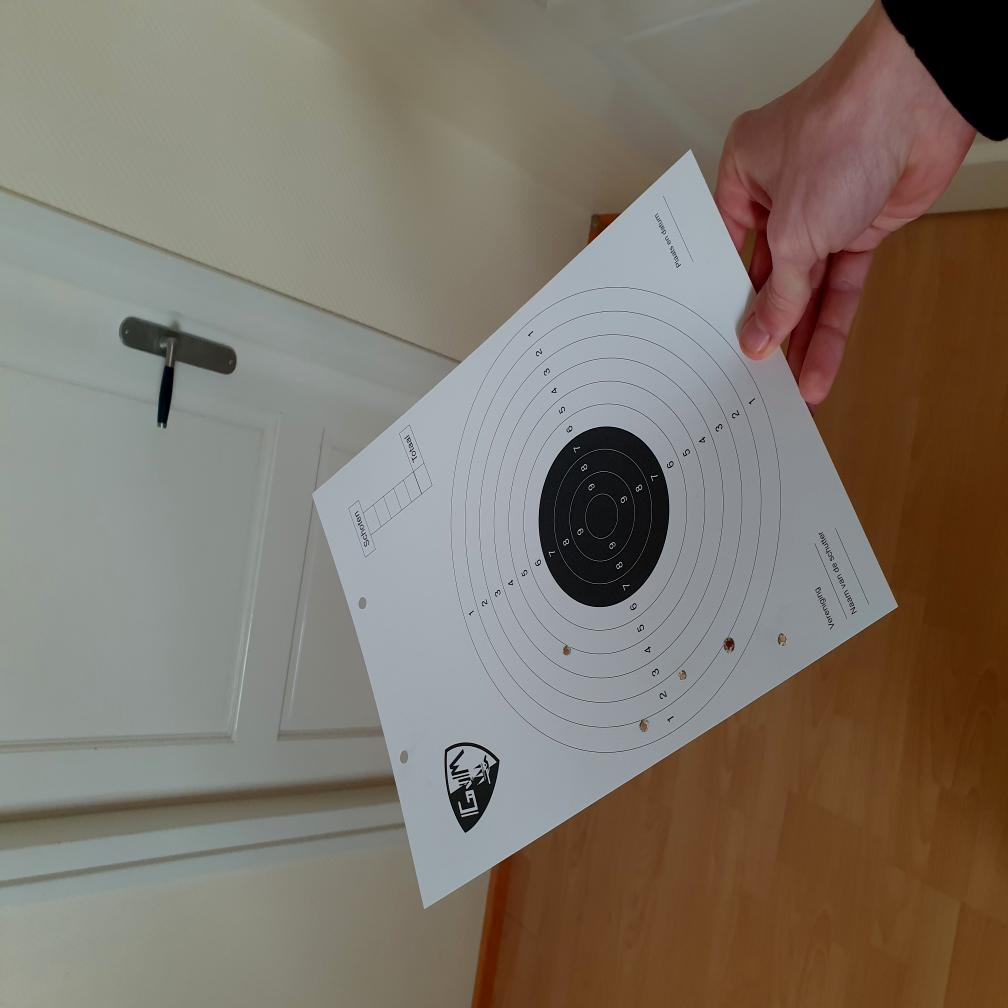0: (775, 632, 788, 646)
2: (722, 637, 735, 654), (640, 718, 649, 733), (678, 669, 688, 682)
5: (563, 645, 571, 656)
Target: (445, 282, 784, 755)
black_contour: (537, 426, 669, 606)
